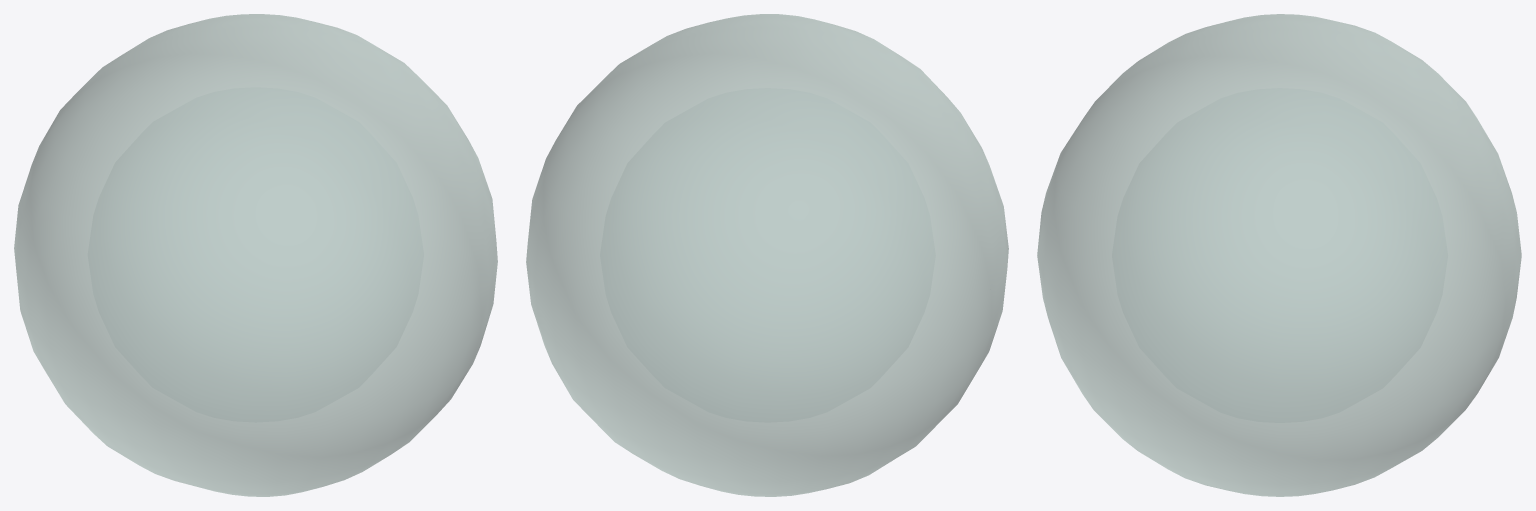
Rendered from vesicle_module.glb.
The picture shows the model from 3 angles, left to right: view 1: azimuth 30°, elevation 25°; view 2: azimuth 150°, elevation 25°; view 3: azimuth 270°, elevation 25°; orthographic projection.
Parts seen in each view (by area): view 1: Vesicle_Bilayer; view 2: Vesicle_Bilayer; view 3: Vesicle_Bilayer.
Part boxes in pixels (x1,y1,x2,y2): Vesicle_Bilayer: (14, 14, 497, 496); Vesicle_Bilayer: (526, 14, 1008, 496); Vesicle_Bilayer: (1037, 14, 1521, 496).
Bounding box in the file's own units: 0.164 × 0.1639 × 0.1643.
